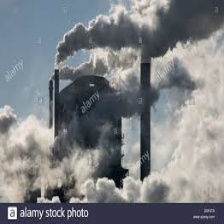smoke: (49, 2, 219, 59), (2, 114, 105, 201), (150, 72, 210, 197)
